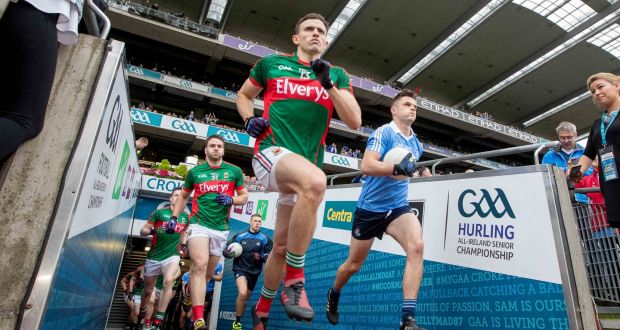ball: (382, 142, 419, 179), (227, 241, 242, 258)
player: (259, 9, 354, 314), (361, 83, 430, 294), (181, 139, 244, 300), (144, 179, 184, 303), (225, 207, 271, 310)
